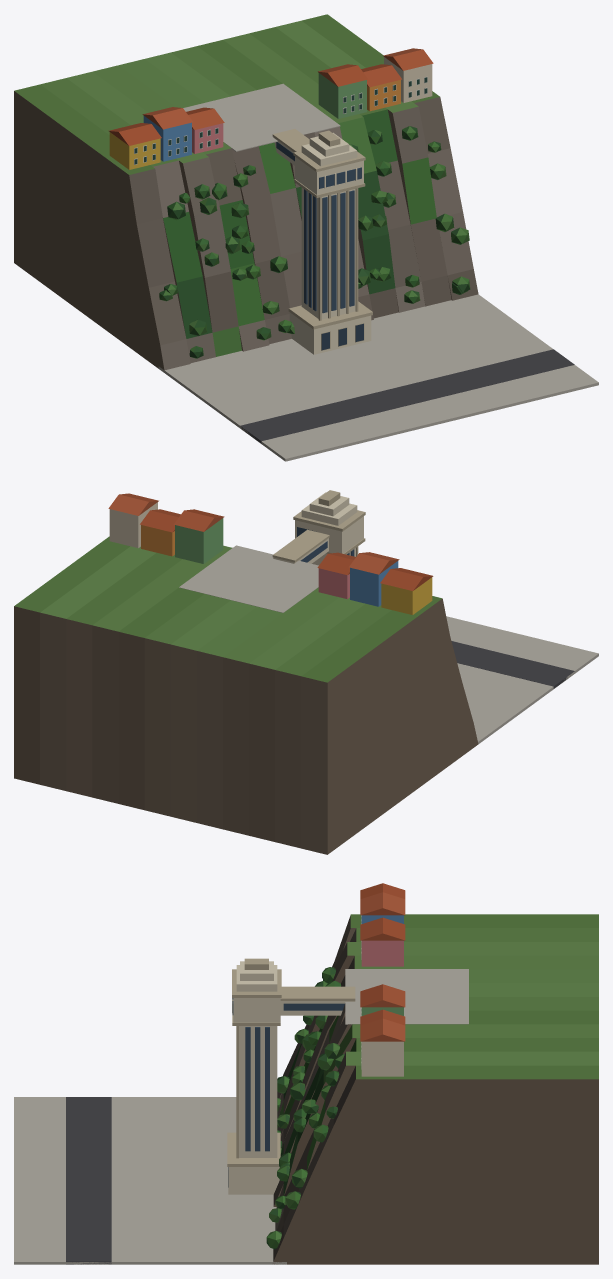
The model's file is elevador_lacerda.glb.
3 renders of one model, top to bottom at view 1: azimuth 30°, elevation 25°; view 2: azimuth 150°, elevation 25°; view 3: azimuth 270°, elevation 25°, orthographic. The views are drawn at different scales.
Parts seen in each view (by area): view 1: elevador_lacerda; view 2: elevador_lacerda; view 3: elevador_lacerda.
Part boxes in pixels (x1,y1,x2,y2): elevador_lacerda: (14,14,598,461); elevador_lacerda: (14,490,598,854); elevador_lacerda: (14,883,598,1264).
Size of the model in its own units: 120 by 77.4 by 180.
